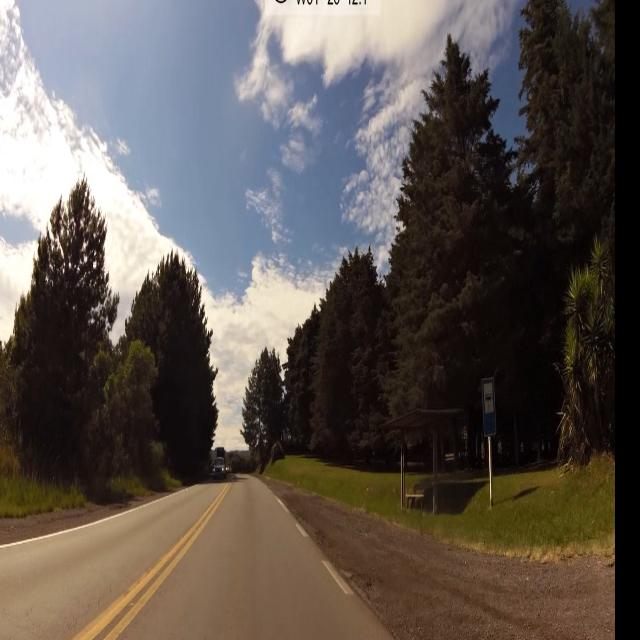S-14: (480, 376, 499, 443)
